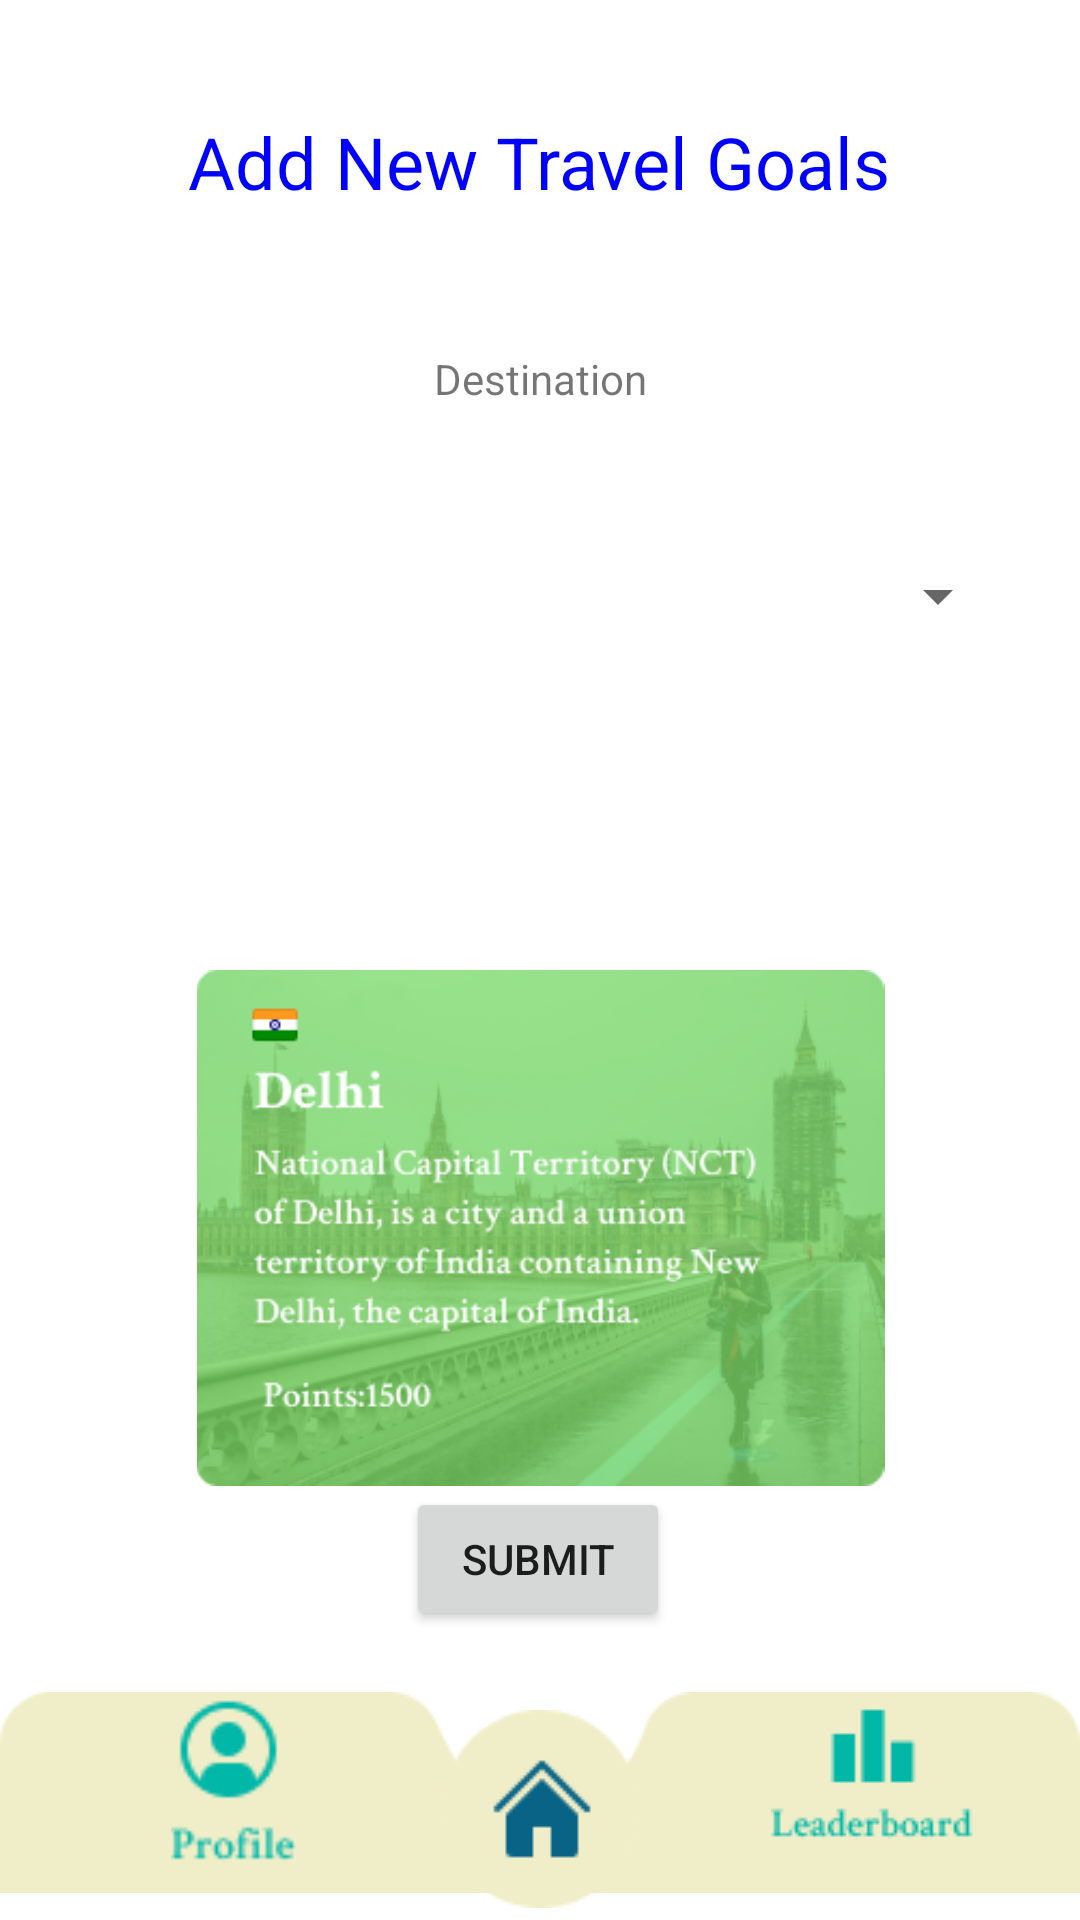

Point at icon controls on the screen. Image size 1080px x 1920px, points as (x=x, y=y).
homeicon: (x=540, y=1809)
